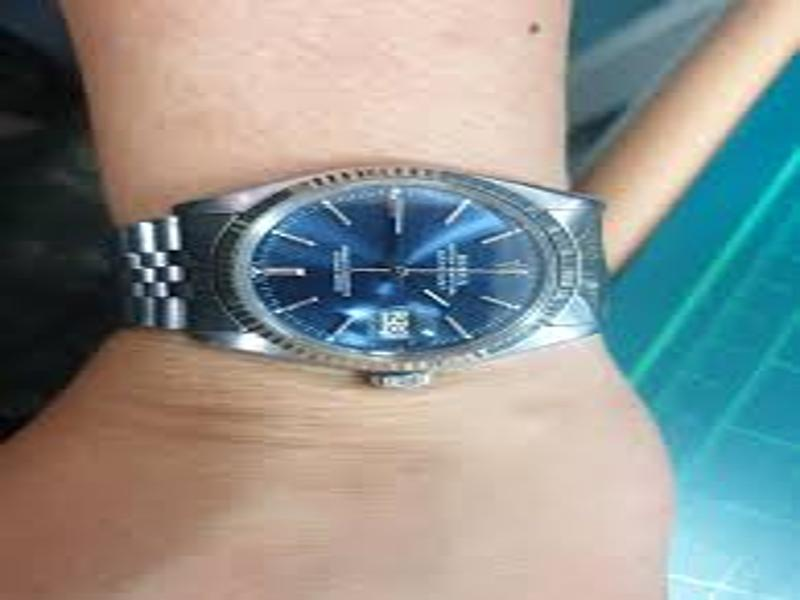watch: (96, 164, 613, 390)
